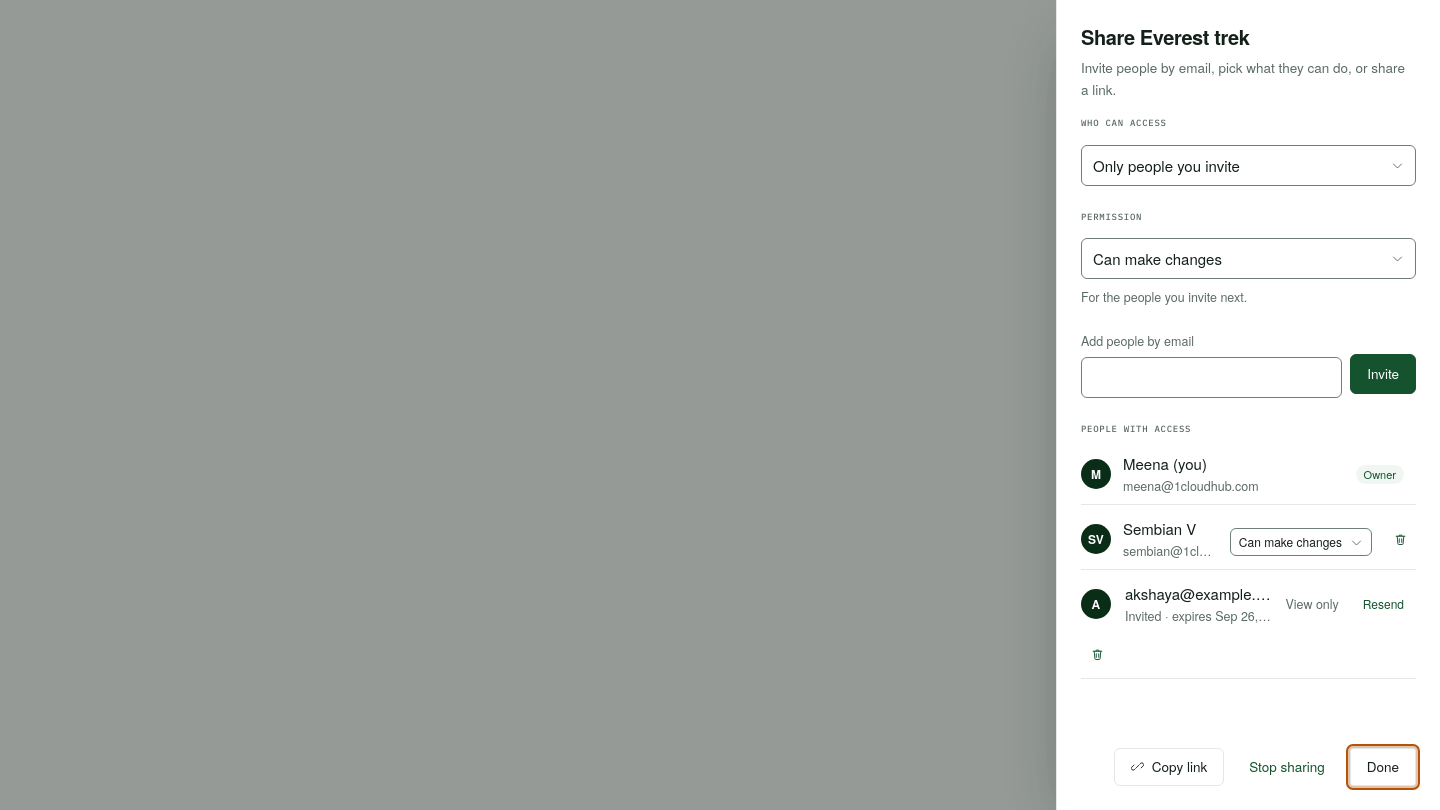
ShareSheet › SHARE-02 a share whose mail was refused says the person has access, never "Invitation saved", and offers no Resend (#121 review)
The width and height of the screenshot is (1440, 810).
Type "known@example.com" into the field labelled "Add people by email" at (1212, 378), box [1081, 357, 1342, 398]
Then press Enter
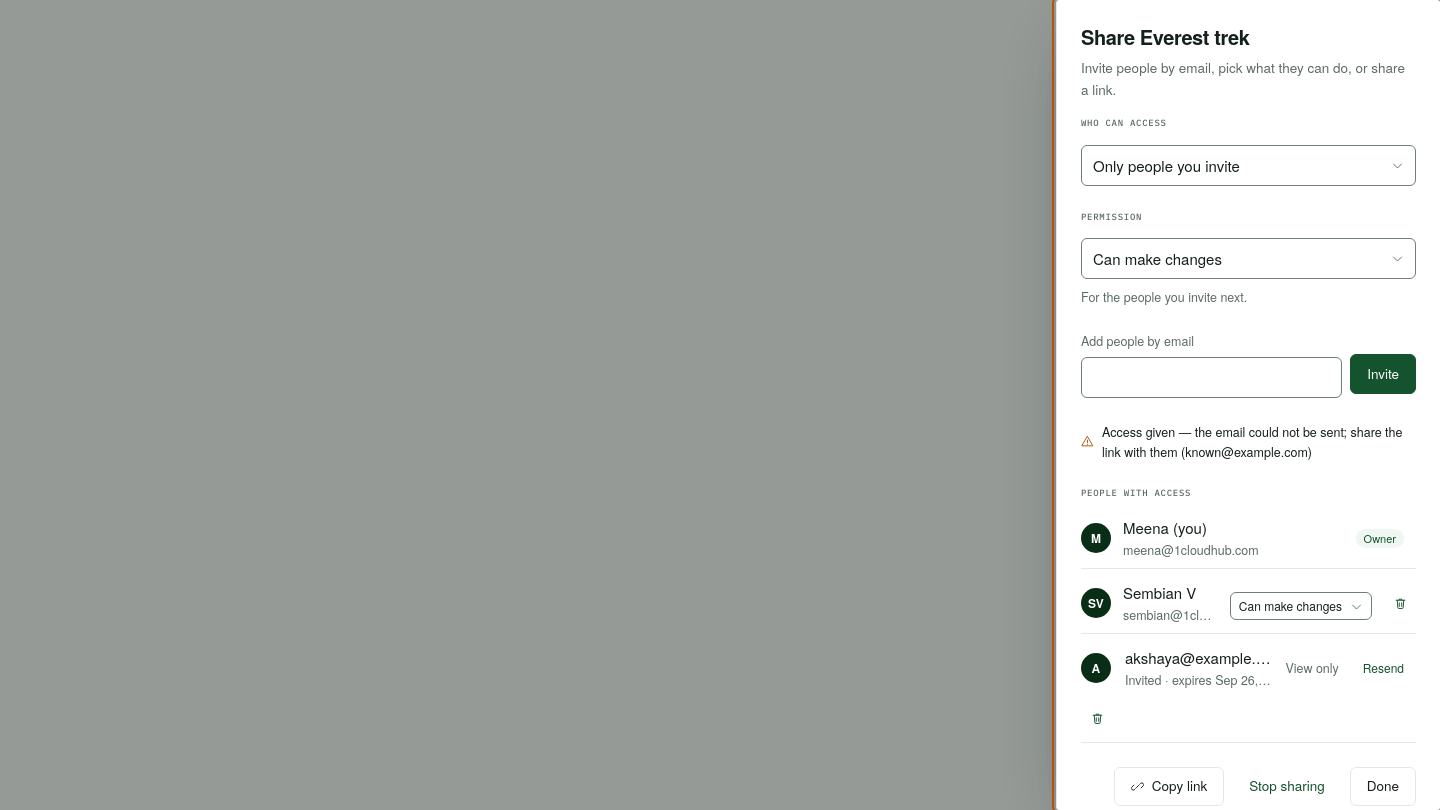
Expected: the message with test id "share-mail-failed" does not show "Invitation saved", [1081, 422, 1416, 462]
Result: the message with test id "share-mail-failed" shows "Access given — the email could not be sent; share the link with them (known@example.com)" at [1081, 422, 1416, 462]
